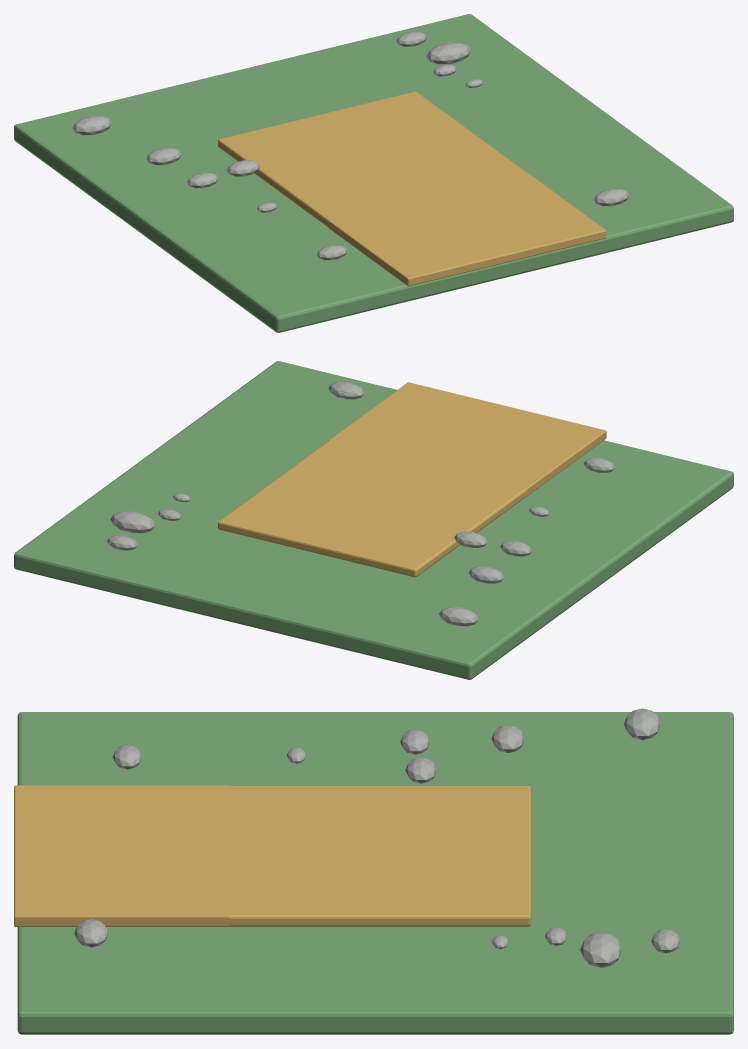
Rendered from ROAD_DIRT_1x1_END.glb.
The picture shows the model from 3 angles, top to bottom: view 1: azimuth 30°, elevation 25°; view 2: azimuth 150°, elevation 25°; view 3: azimuth 270°, elevation 25°; orthographic projection. The views are drawn at different scales.
Parts seen in each view (by area): view 1: ROAD_DIRT_1x1_END_Visual; view 2: ROAD_DIRT_1x1_END_Visual; view 3: ROAD_DIRT_1x1_END_Visual.
Part boxes in pixels (x1,y1,x2,y2): ROAD_DIRT_1x1_END_Visual: (14,14,733,332); ROAD_DIRT_1x1_END_Visual: (14,361,733,679); ROAD_DIRT_1x1_END_Visual: (14,708,733,1034).
Size of what is drawn, in the model's own units: 1.98 by 0.1557 by 1.99.
